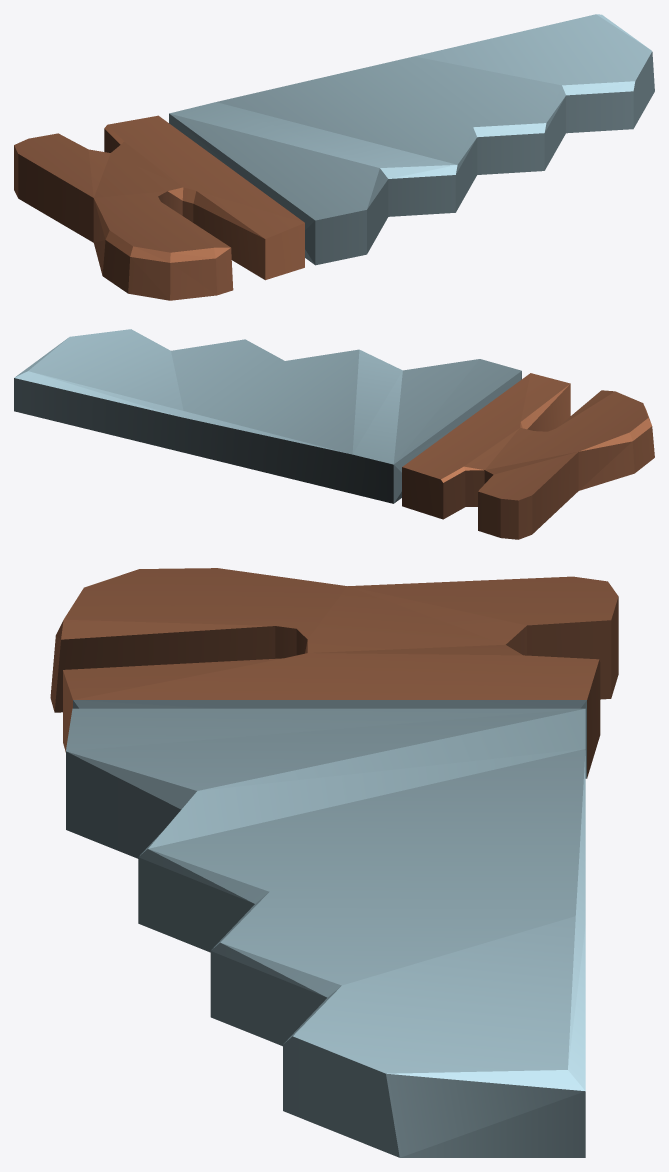
The model's file is tool_002.glb.
3 views of the same model, one above another, from view 1: azimuth 30°, elevation 25°; view 2: azimuth 150°, elevation 25°; view 3: azimuth 270°, elevation 25° (orthographic). The views are drawn at different scales.
Parts seen in each view (by area): view 1: tool.002; view 2: tool.002; view 3: tool.002.
Part boxes in pixels (bbox=[...]): tool.002: bbox=[14, 14, 654, 300]; tool.002: bbox=[14, 329, 654, 539]; tool.002: bbox=[50, 568, 618, 1157].
Size of the model in its own units: 0.4343 by 0.0321 by 0.2018.
1 material, 1 textured.
